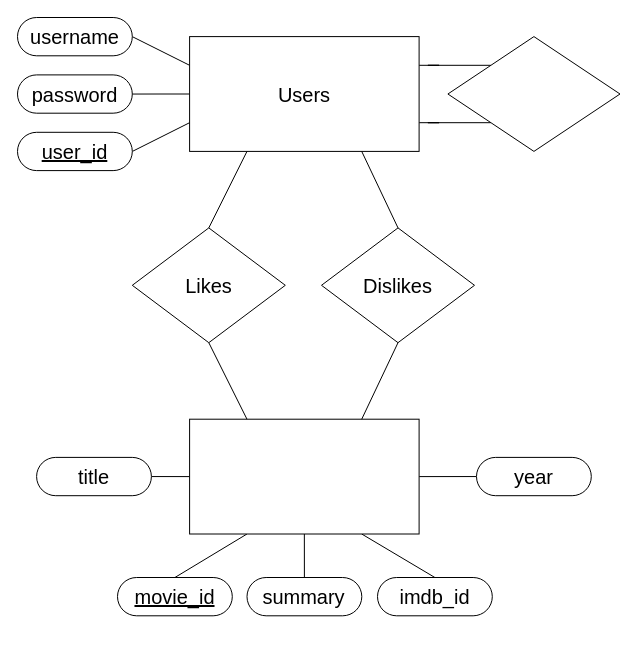
This 638x647 diagram has some shape labels left out. Each missing label, with the centre of its shape:
"Has_Friends" goes at point (533, 93).
"Movies" goes at point (304, 476).
